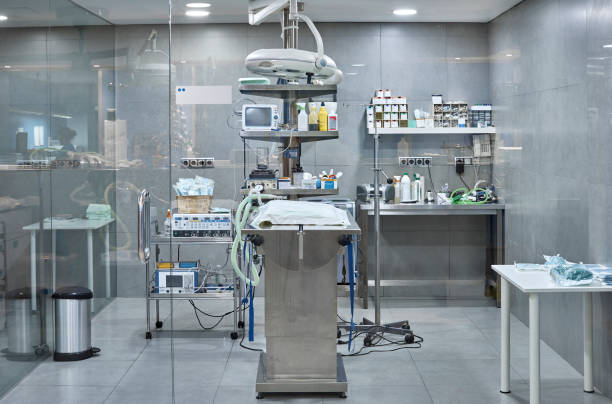bedside_monitor: (241, 105, 280, 130)
breathing_tube: (231, 181, 266, 288)
dispenser: (408, 173, 424, 203), (293, 103, 308, 133)
electrosurgical_unit: (167, 213, 233, 237)
iv_pole: (355, 103, 394, 326)
operating_bed: (241, 199, 361, 399)
table: (490, 262, 612, 404), (358, 205, 508, 308), (29, 206, 119, 314)
utility_cart: (137, 188, 247, 337)
waste_bin: (48, 286, 102, 362)
